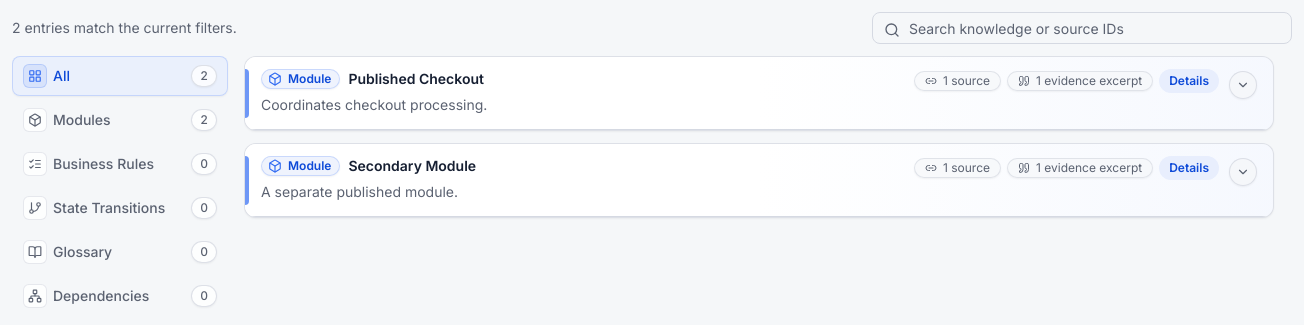
Test case: Knowledge Explorer scrolling › searches published structured fields, evidence metadata, quotes, and source IDs
The width and height of the screenshot is (1304, 325).
Step 1. Type "mod-private-checkout" into the field named "Search compiled knowledge" → (1082, 28), box [872,12,1292,44]
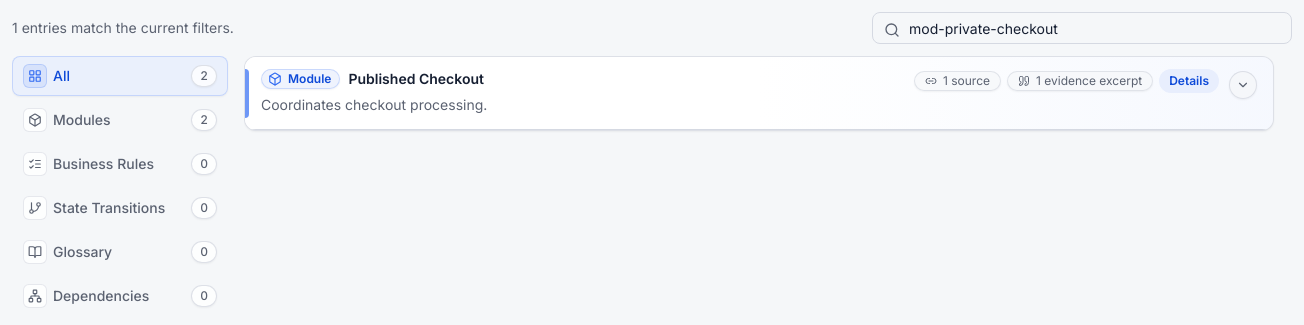
Expected: the button "Secondary Module" is not shown
Expected: the text "1 entries match the current filters." is shown, [12,18,234,38]
Step 2. Replace the text in the field named "Search compiled knowledge" with "iterationPath" → (1082, 28), box [872,12,1292,44]
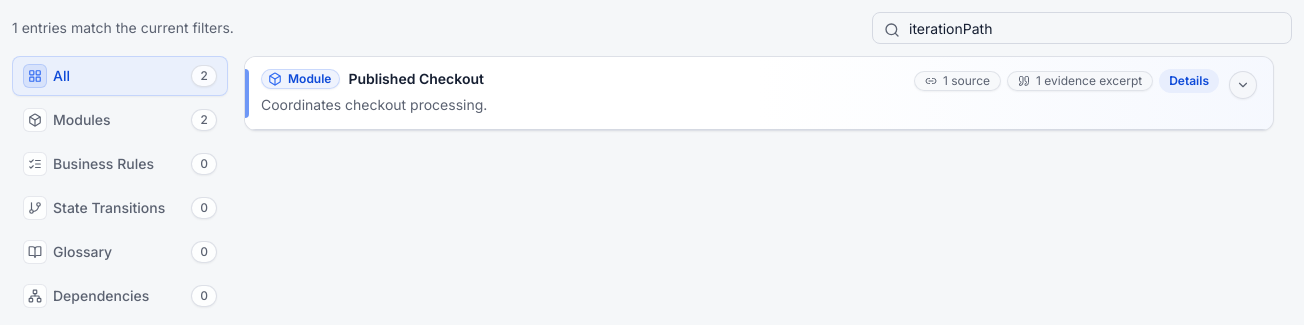
Expected: the button "Secondary Module" is not shown
Expected: the text "1 entries match the current filters." is shown, [12,18,234,38]
Step 3. Replace the text in the field named "Search compiled knowledge" with "identity document" → (1082, 28), box [872,12,1292,44]
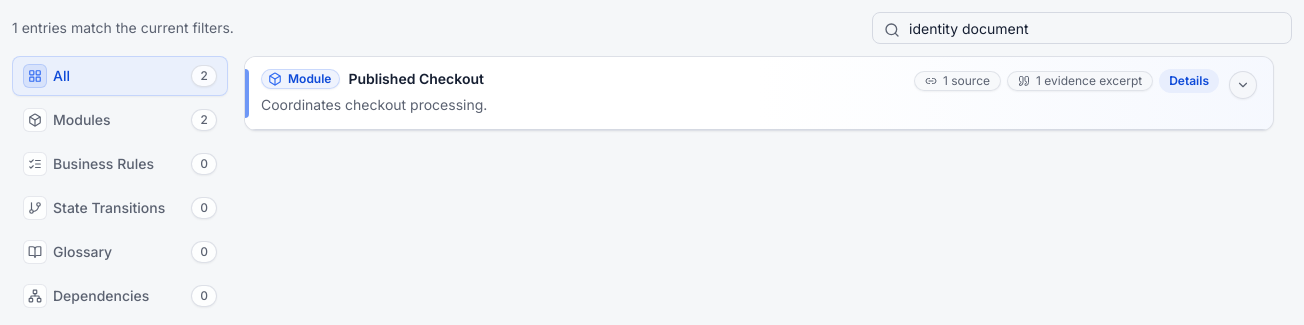
Expected: the button "Secondary Module" is not shown
Expected: the text "1 entries match the current filters." is shown, [12,18,234,38]
Step 4. Replace the text in the field named "Search compiled knowledge" with "98765" → (1082, 28), box [872,12,1292,44]
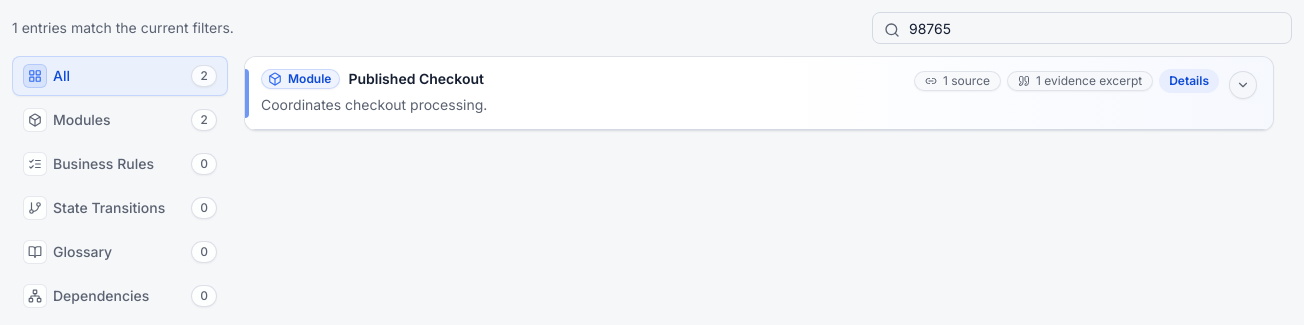
Expected: the button "Secondary Module" is not shown
Expected: the text "1 entries match the current filters." is shown, [12,18,234,38]
Step 5. Replace the text in the field named "Search compiled knowledge" with "Legacy-only secondary evidence" → (1082, 28), box [872,12,1292,44]
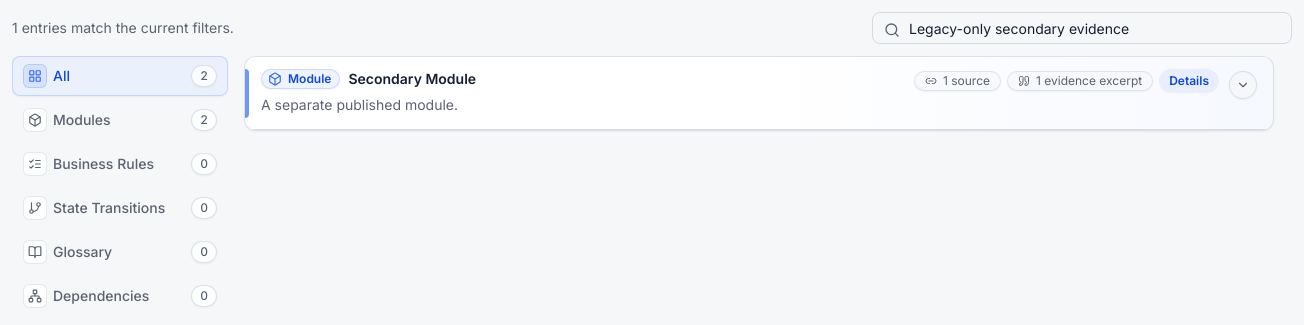
Expected: the text "1 entries match the current filters." is shown, [12,18,234,38]
Expected: the button "Published Checkout" is gone
